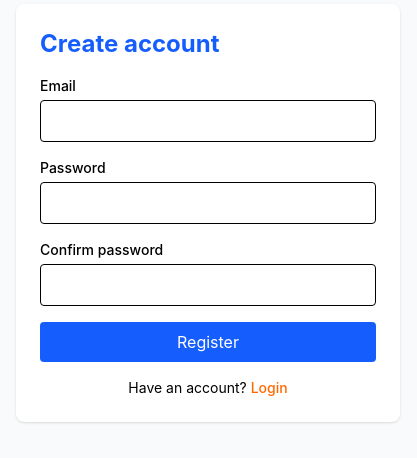
Test case: rejects short passwords
Type "a@b.com" into the field labelled "Email" at (208, 121), box [40,100,376,142]
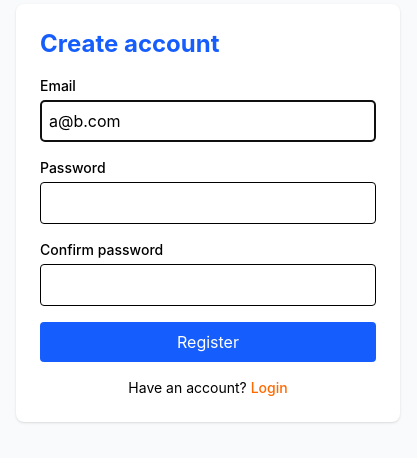
Type "123" into the password field labelled "Password" at (208, 203), box [40,182,376,224]
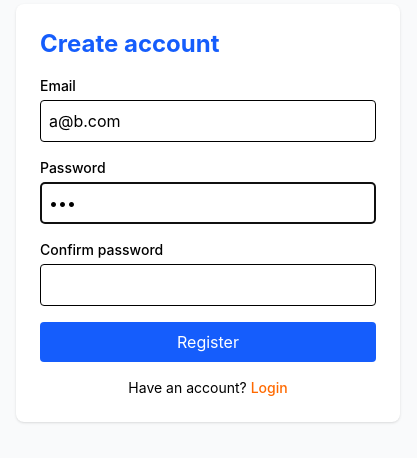
Type "123" into the password field labelled "Confirm password" at (208, 285), box [40,264,376,306]
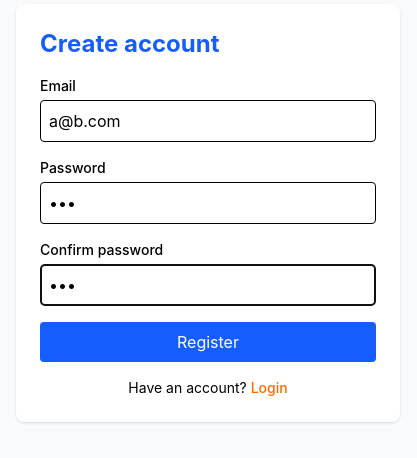
Click the button "Register" at (208, 342), box [40,322,376,362]
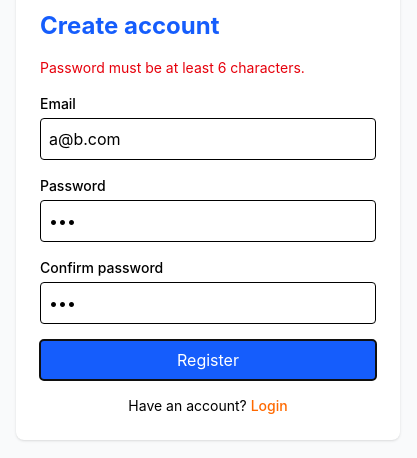
Check: the message shows "at least 6", box [40,59,305,76]
